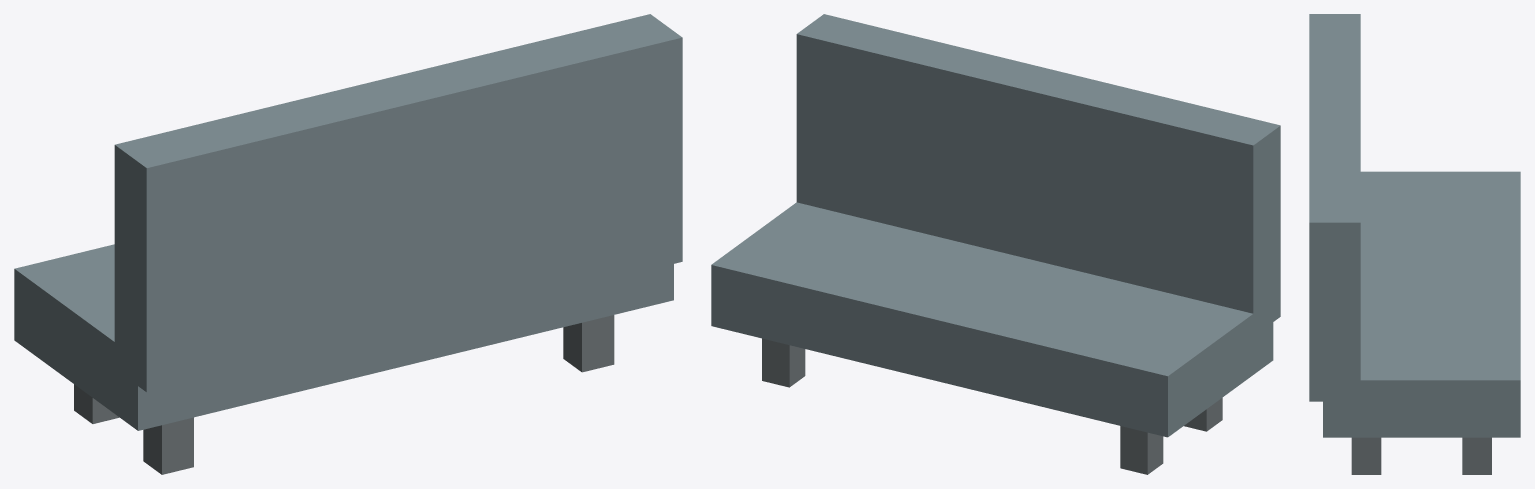
File: car_seat_bench.glb
3 views of the same model, side by side, from view 1: azimuth 30°, elevation 25°; view 2: azimuth 150°, elevation 25°; view 3: azimuth 270°, elevation 25° (orthographic). The views are drawn at different scales.
Visible parts, largest first — view 1: body; view 2: body; view 3: body.
Part boxes in pixels (x1,y1,x2,y2): body: [14, 14, 682, 474]; body: [711, 14, 1280, 474]; body: [1309, 14, 1520, 474].
Size of the model in its own units: 1.25 by 0.75 by 0.535.
